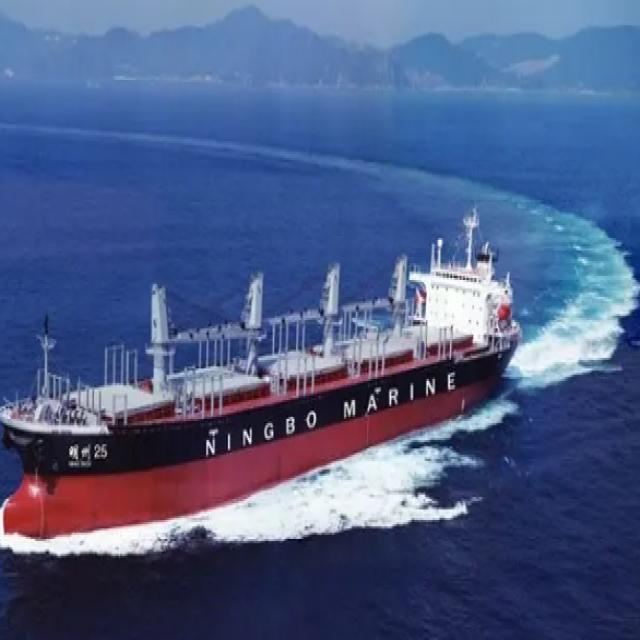cargoship: (0, 231, 514, 530)
